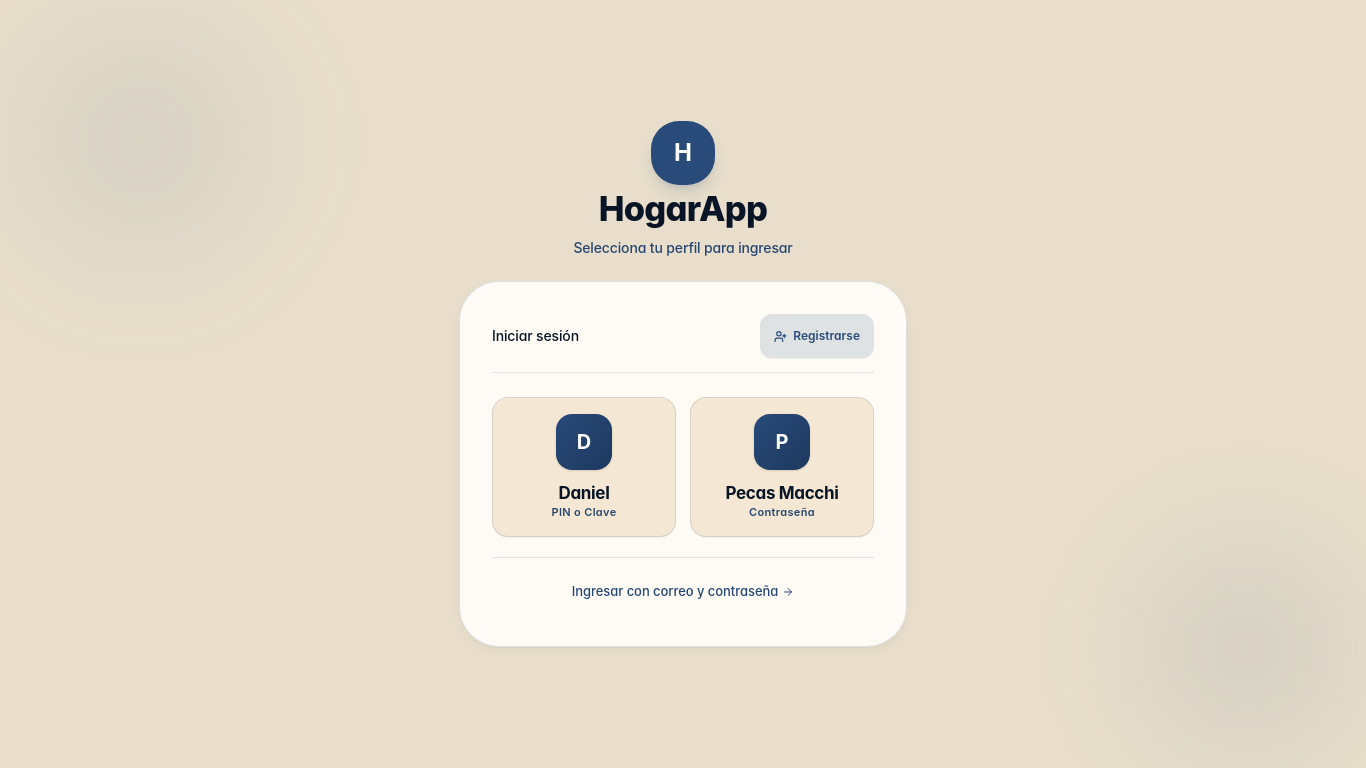
Scenario: LoginForm Component Interaction Tests › displays error message when login fails
This screenshot has width=1366, height=768.
Click the button "Ingresar con correo y contraseña" at (683, 592), box 492,570 -> 874,614
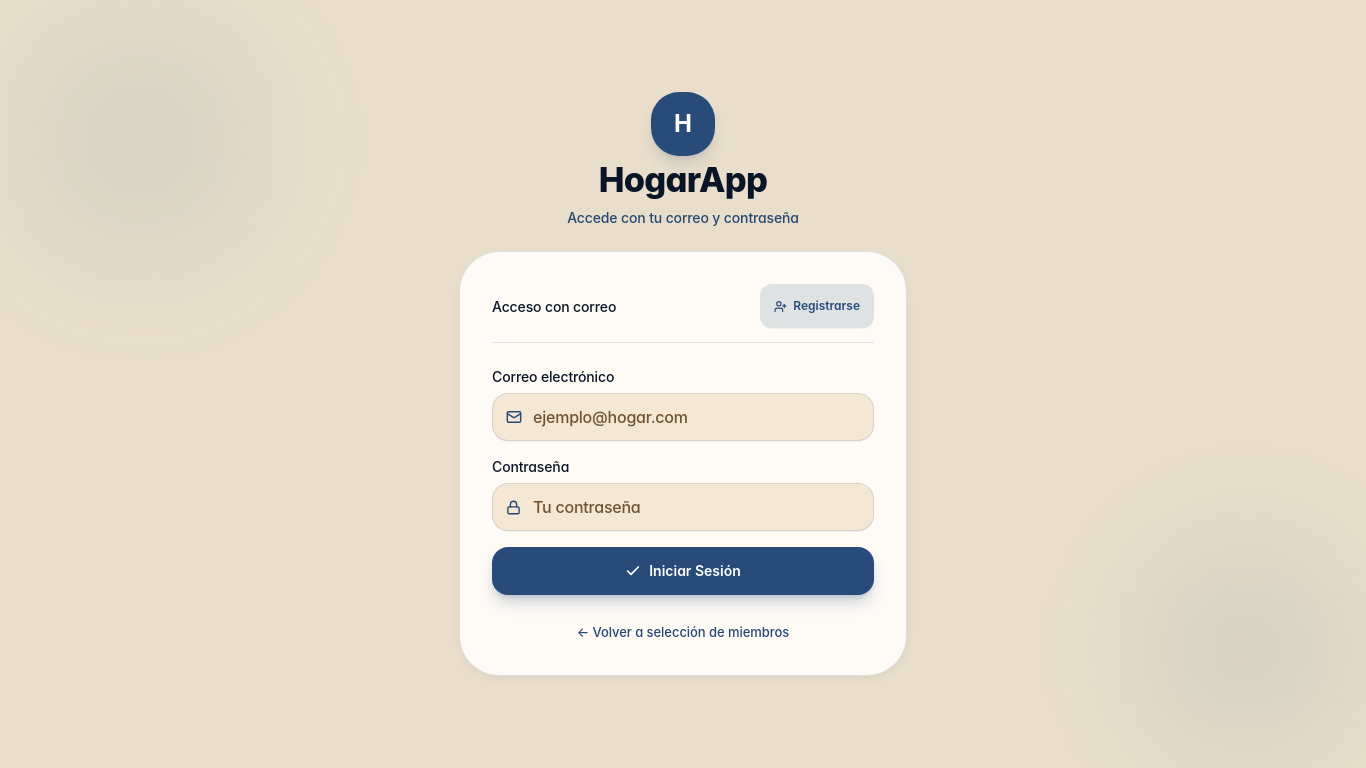
Type "bad@hogar.com" into the field with placeholder "ejemplo@hogar.com" at (683, 417), box 492,393 -> 874,441
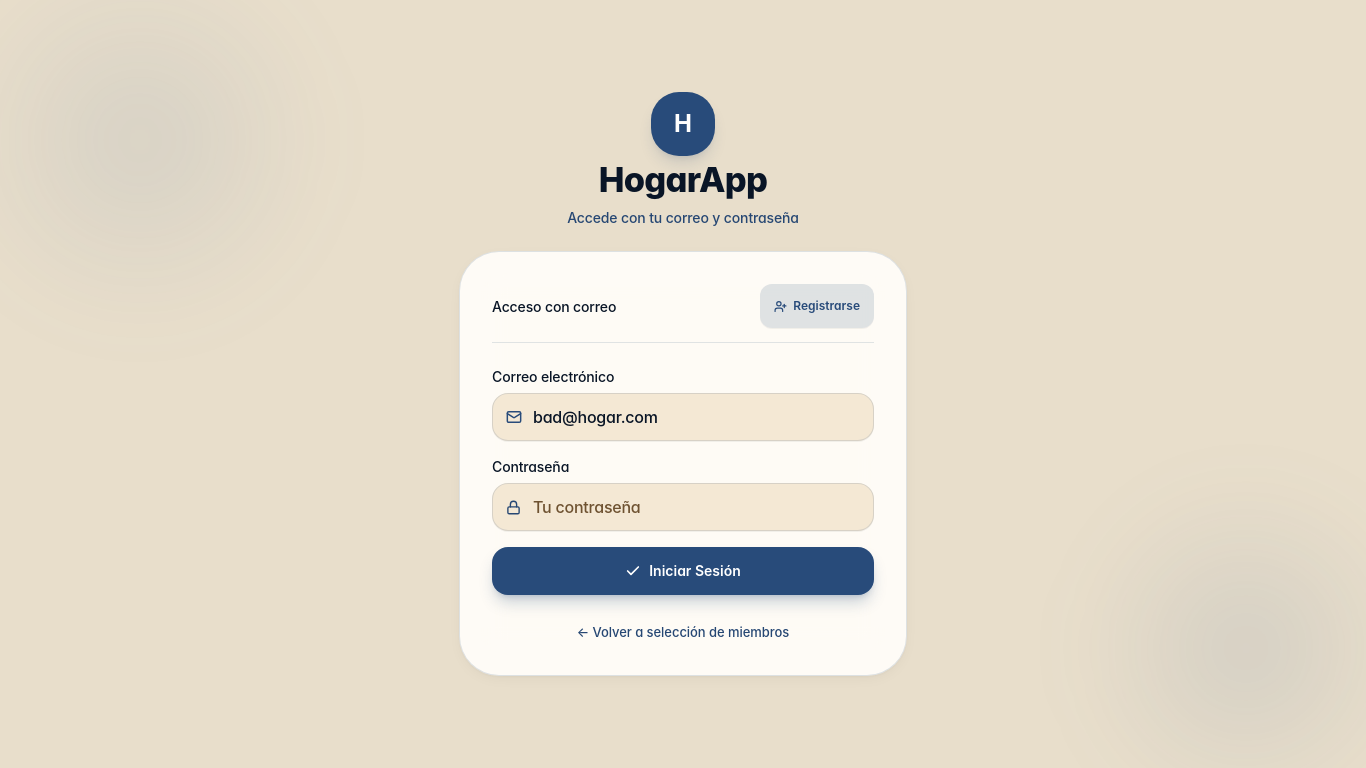
Type "bad" into the password field with placeholder "Tu contraseña" at (683, 507), box 492,483 -> 874,532
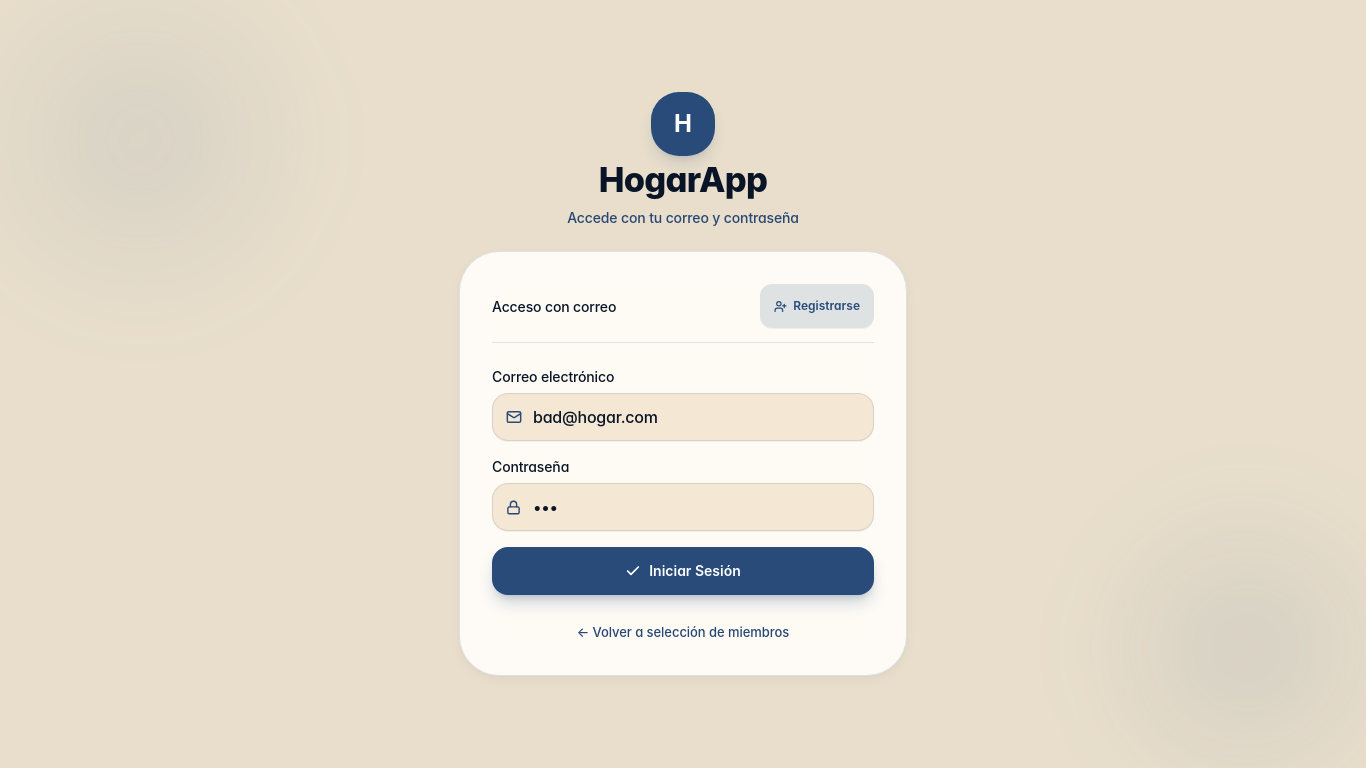
Click the button "Iniciar Sesión" at (683, 572), box 492,548 -> 874,596
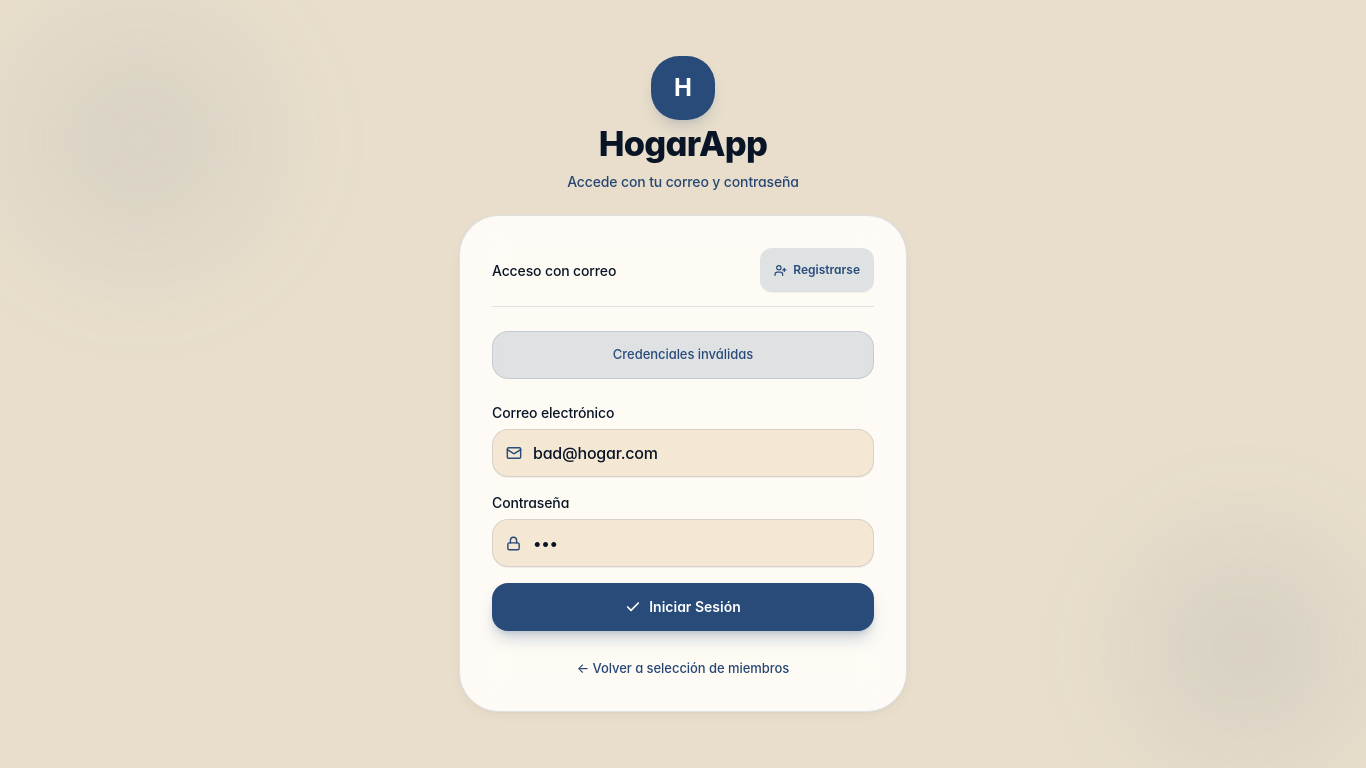
Expected: the text "Credenciales inválidas" is shown, 492,332 -> 874,379
